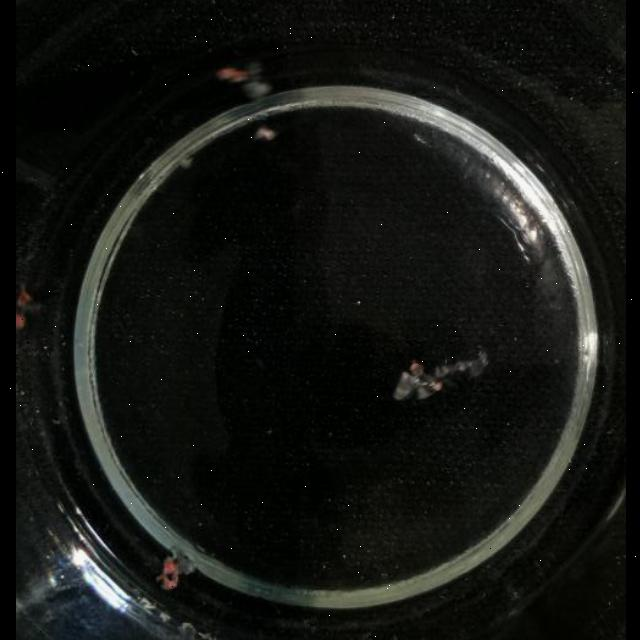Fragment: (388, 350, 499, 412), (70, 542, 142, 614), (151, 543, 199, 591), (216, 62, 270, 100), (15, 288, 37, 330)
microbeads: (256, 126, 276, 140)
